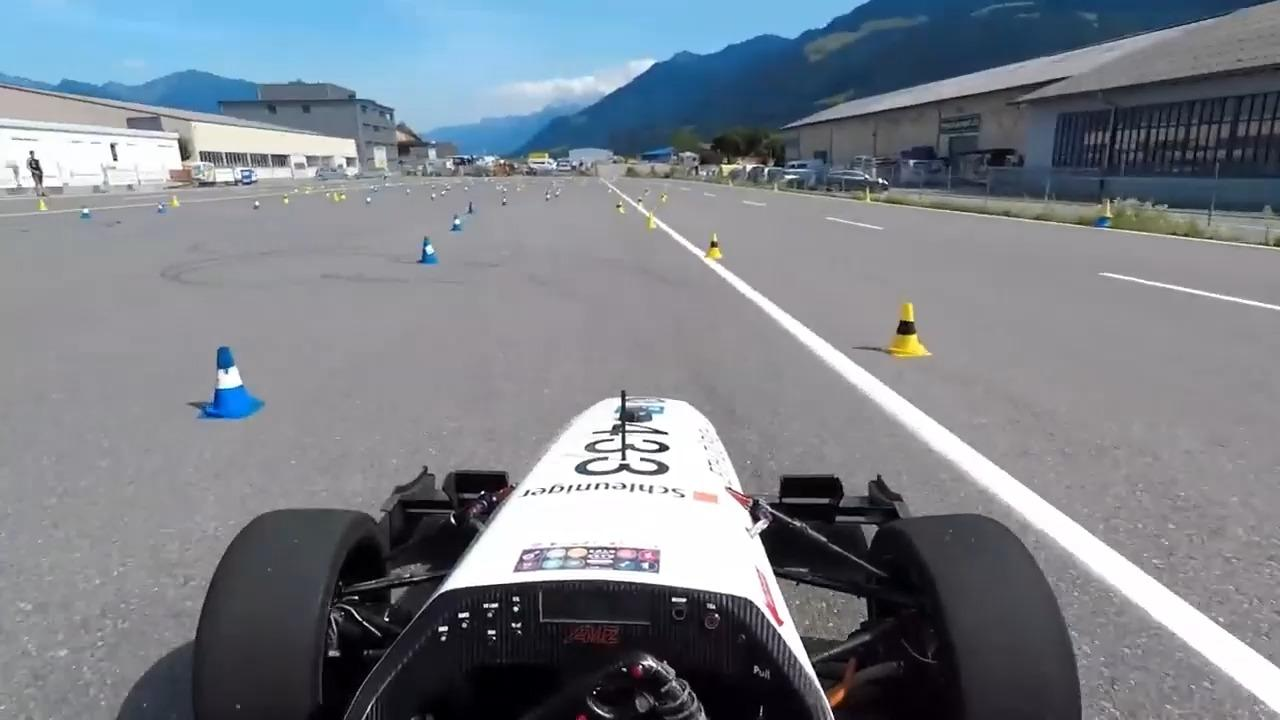blue_cone: (193, 337, 276, 426), (411, 231, 453, 272), (449, 205, 480, 237)
yellow_cone: (881, 297, 919, 344), (709, 229, 723, 262)
